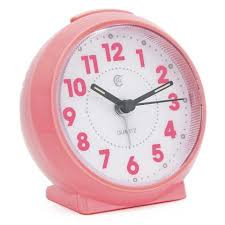alarm_clock: (17, 5, 207, 215), (27, 5, 207, 215)
